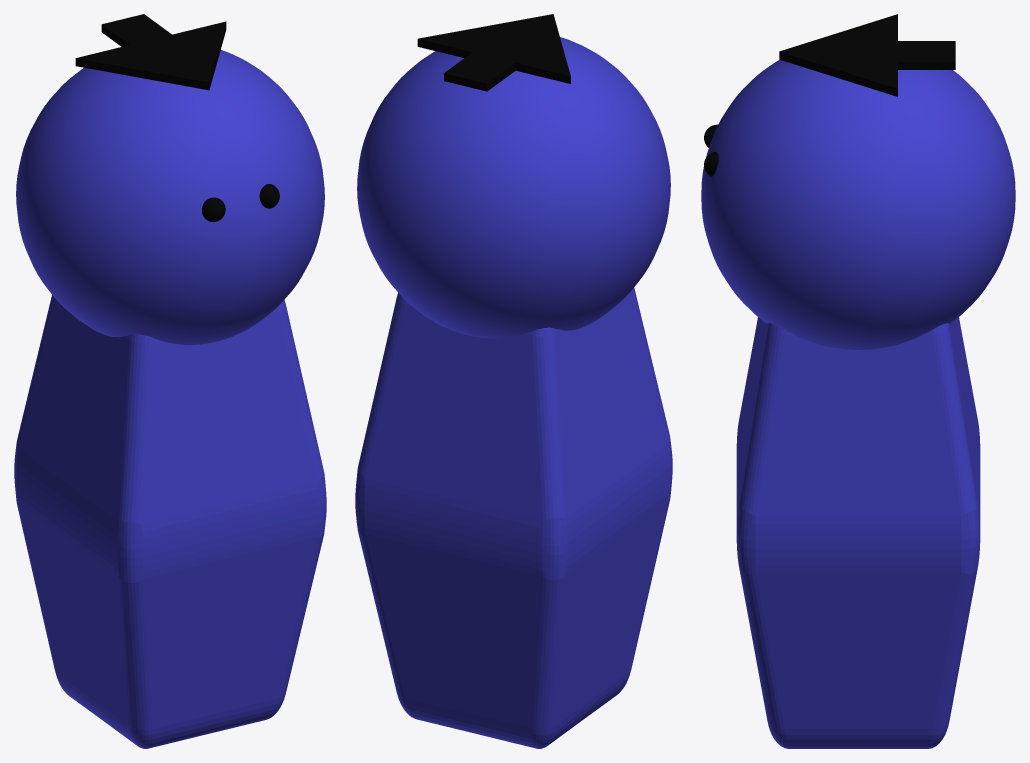
The model's file is 3purple.obj.
3 renders of one model, left to right at view 1: azimuth 30°, elevation 25°; view 2: azimuth 150°, elevation 25°; view 3: azimuth 270°, elevation 25°, orthographic.
Parts seen in each view (by area): view 1: Cube.006_Cube.013; view 2: Cube.006_Cube.013; view 3: Cube.006_Cube.013.
Boxes of the visible parts, left/top/right/bottom form: Cube.006_Cube.013: left=14, top=14, right=326, bottom=748; Cube.006_Cube.013: left=355, top=14, right=672, bottom=748; Cube.006_Cube.013: left=701, top=14, right=1015, bottom=748.
Bounding box in the file's own units: 0.2062 × 0.482 × 0.2057.
